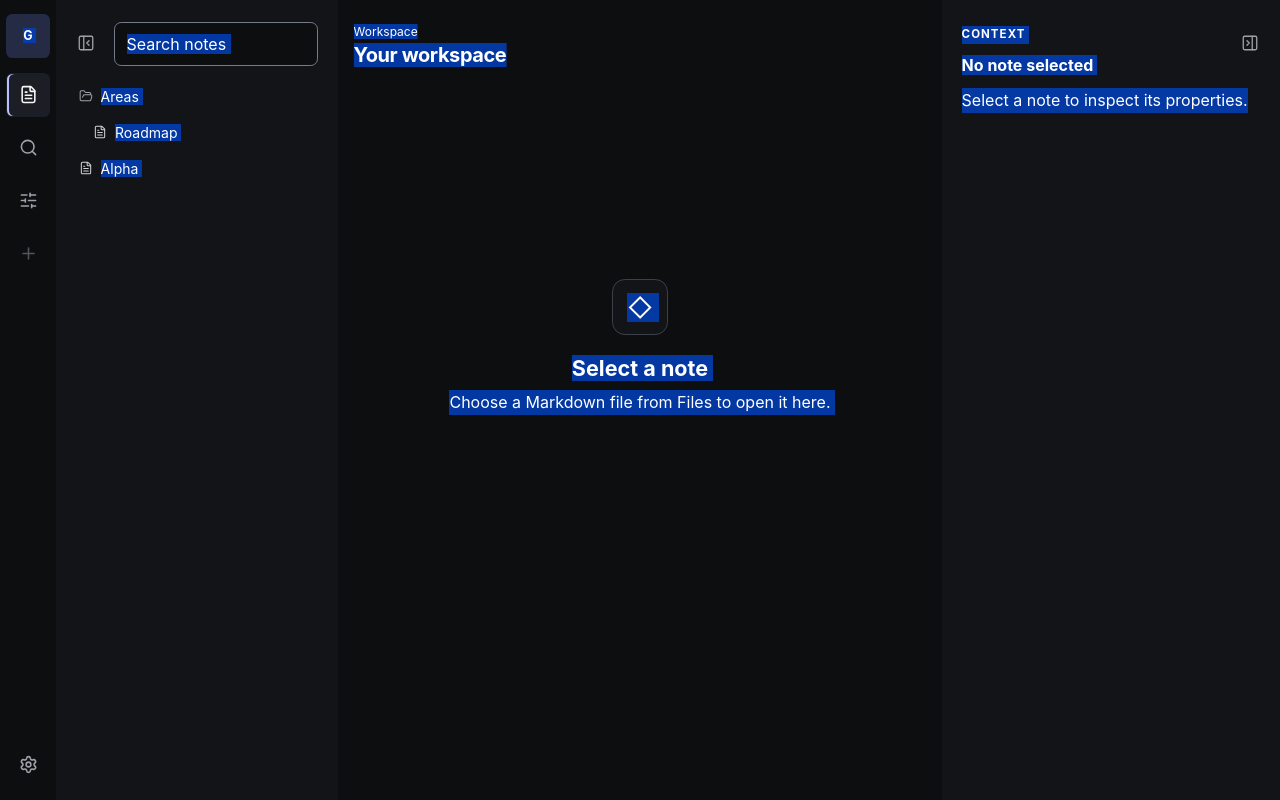
Test: GMD-002/S1 responsive browse shell › S3/R1-S1 searches locally and opens an opaque result through the guarded note transition
The image size is (1280, 800).
Type "launch" into the search field labelled "Search notes".
click(216, 44); type("launch")  # box [114, 22, 318, 66]
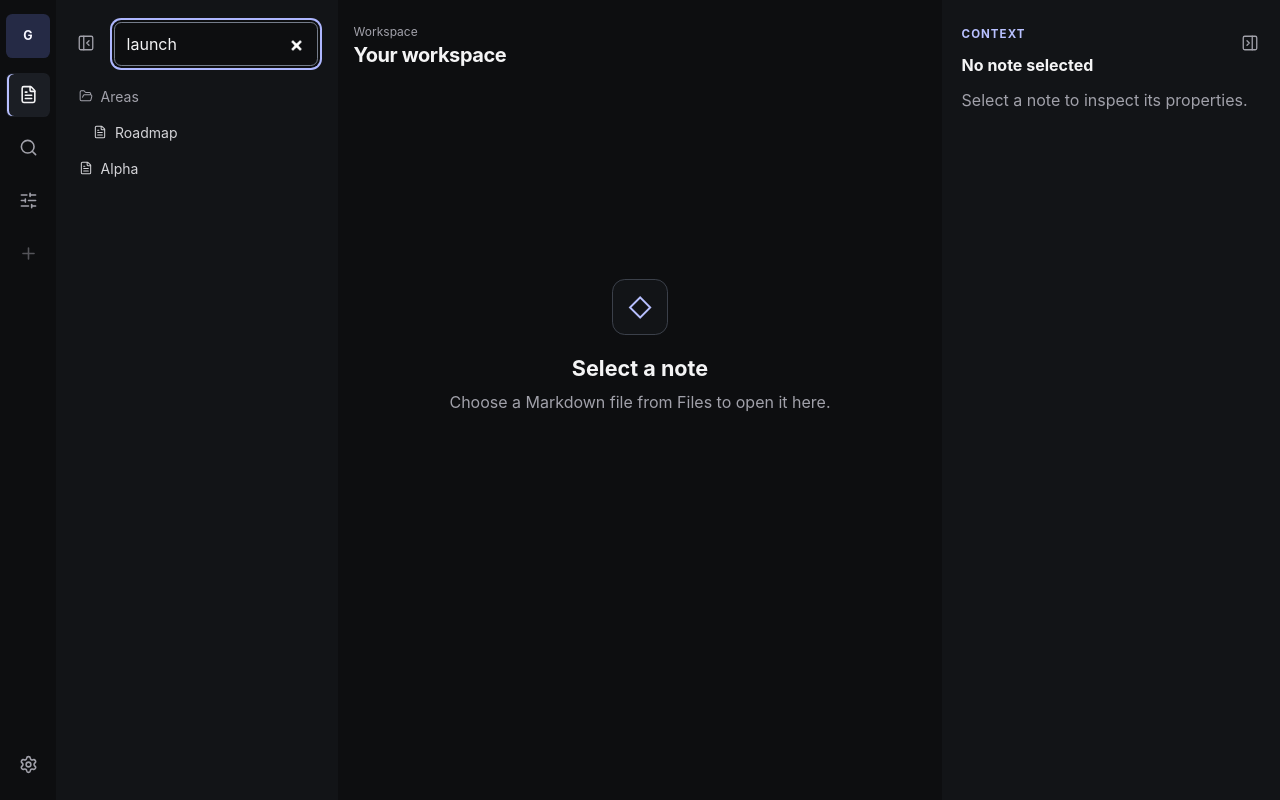
Press Enter
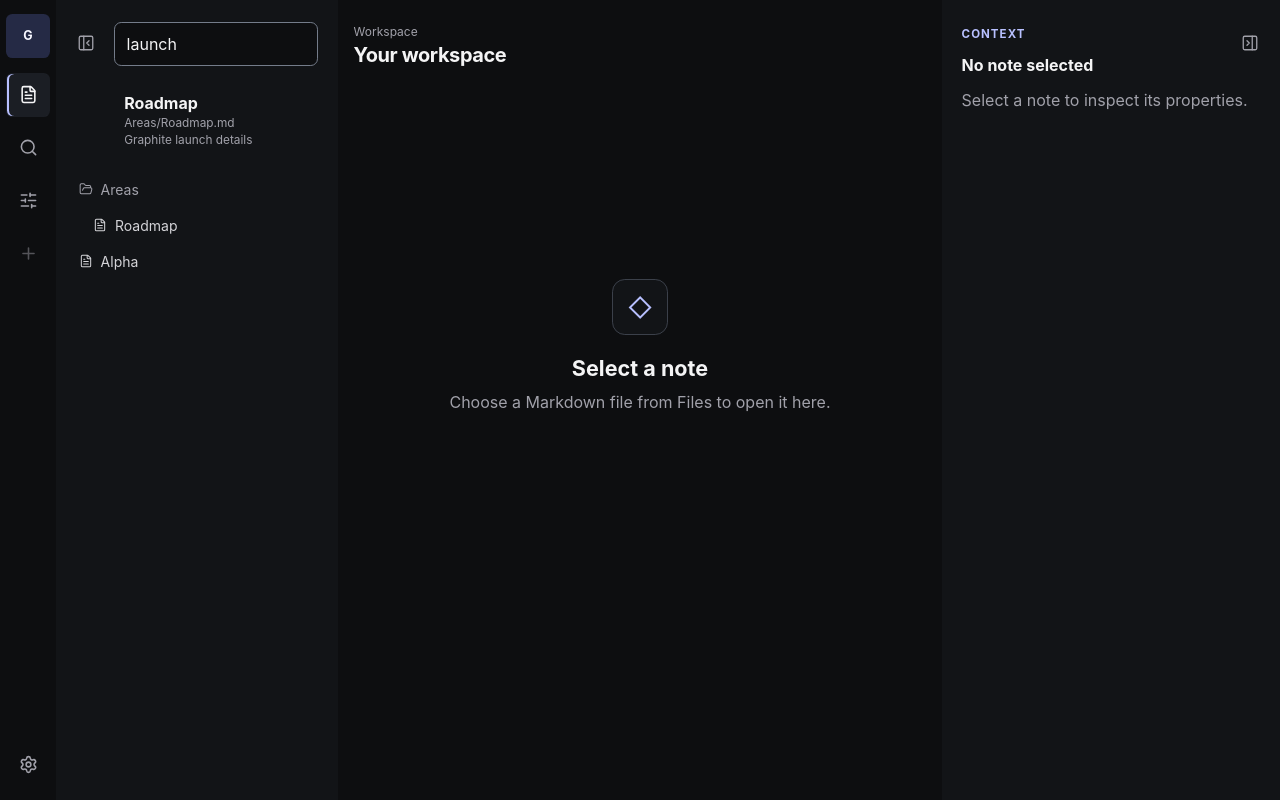
Click the button "Roadmap Areas/Roadmap.md Graphite launch details".
click(216, 121)  # box [114, 82, 318, 159]
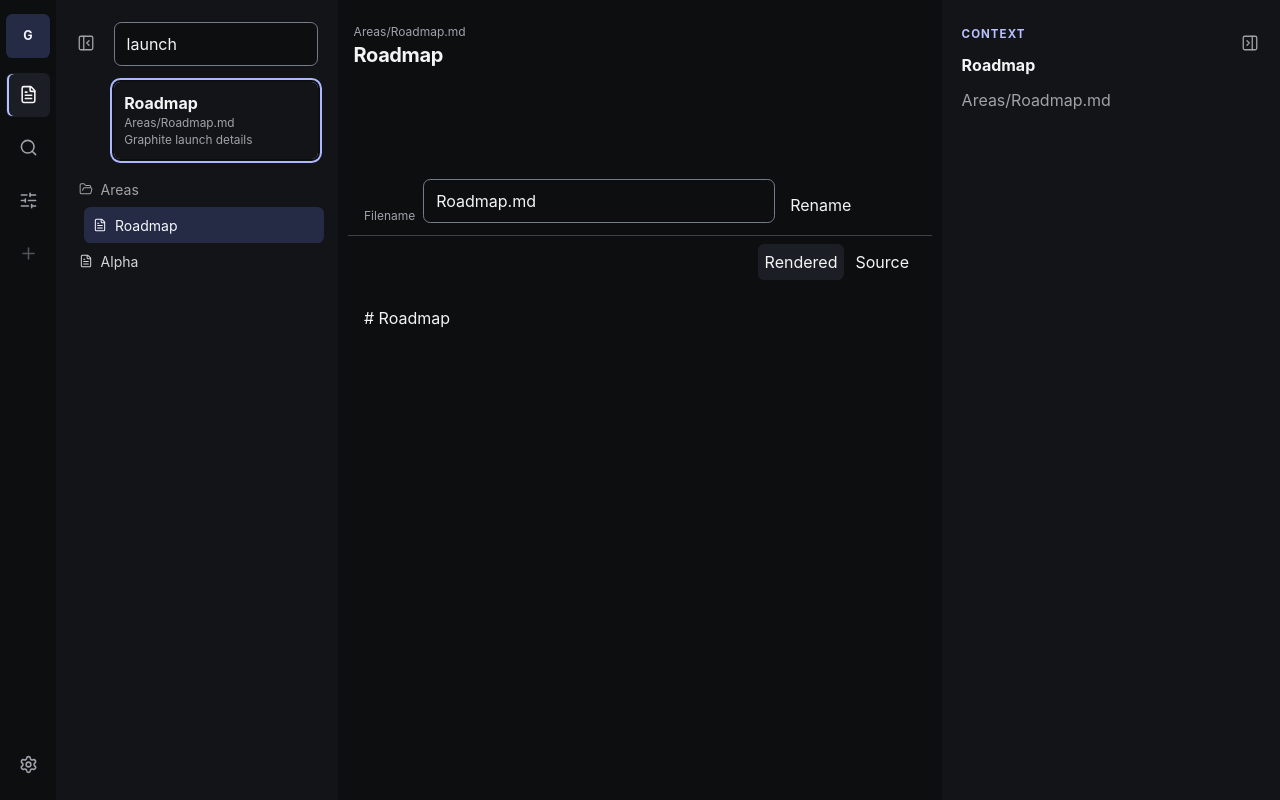
Check: the heading "Roadmap" in the row of "Saved" is shown, box [354, 43, 443, 67]
